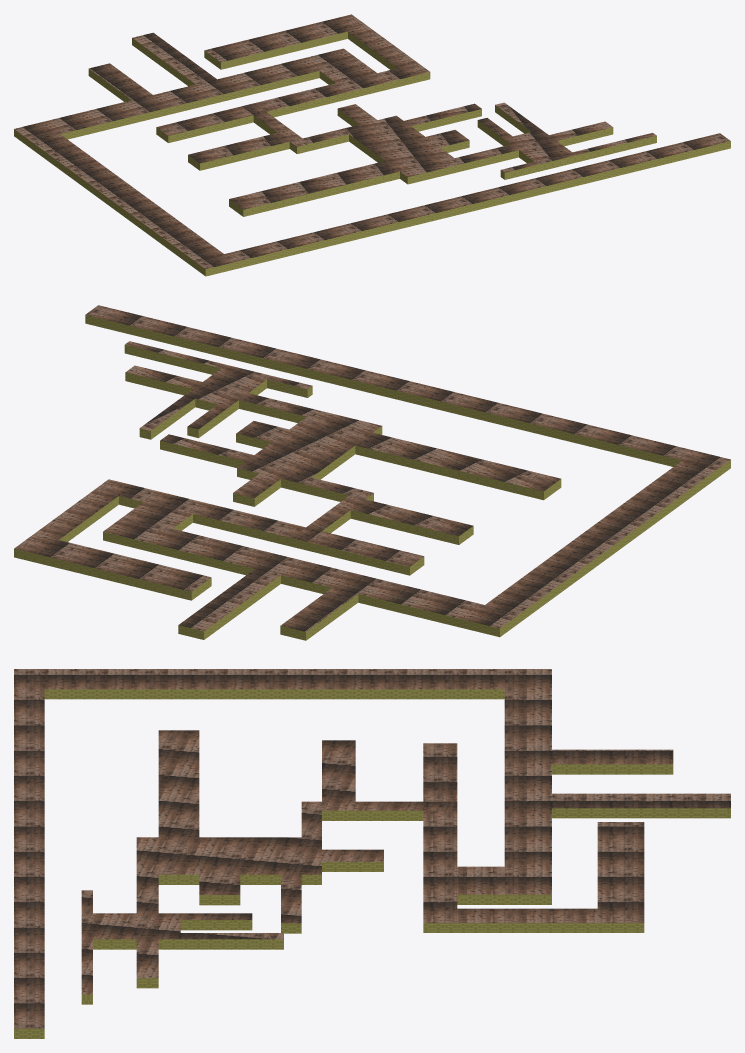
File: level1.glb
3 views of the same model, one above another, from view 1: azimuth 30°, elevation 25°; view 2: azimuth 150°, elevation 25°; view 3: azimuth 270°, elevation 25° (orthographic). The views are drawn at different scales.
Parts seen in each view (by area): view 1: Cube; view 2: Cube; view 3: Cube.
Boxes of the visible parts, bbox=[...] form: Cube: bbox=[14, 14, 730, 276]; Cube: bbox=[14, 305, 730, 640]; Cube: bbox=[14, 669, 730, 1038].
Bounding box in the file's own units: 453 × 6 × 382.
3 materials, 3 textured.
